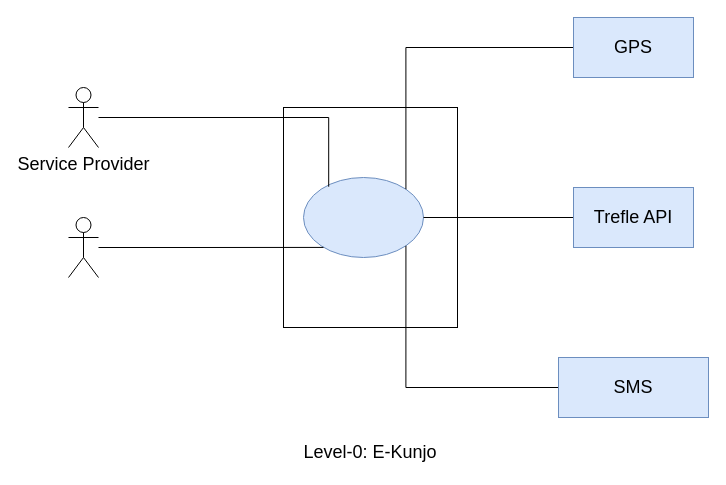
Some shapes in this 726 by 485 pixel diagram are drawn without their labels. The shapes that lost their labels are listed below. From the top down, each one's centre as x and y in pixels, then its label:
[363,217]: E-KUNJO
[83,247]: Farmers
